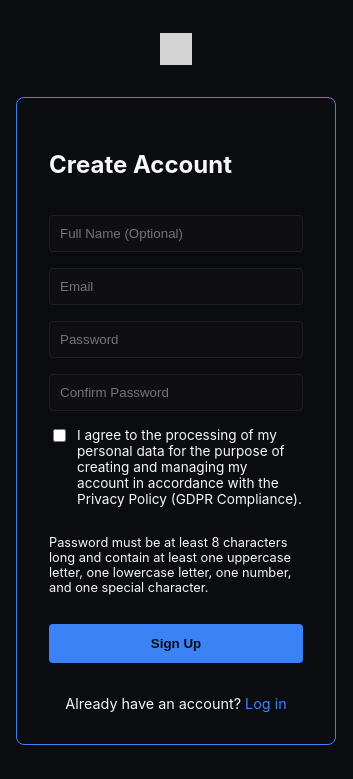
Test case: SignupPage › shows "Passwords do not match" when passwords differ
Type "user@bec-robotics.com" into the field with placeholder "Email" at (176, 286), box [49,268,303,305]
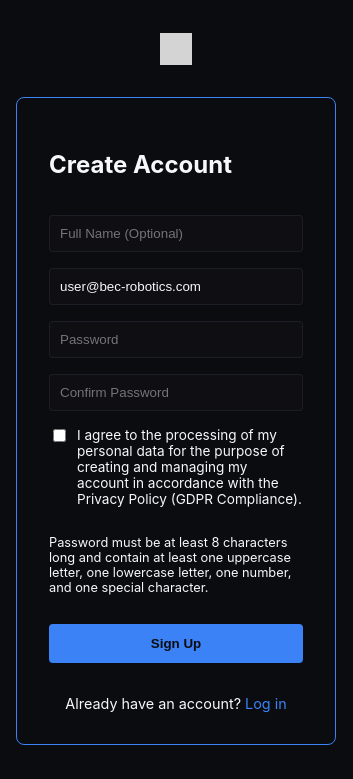
Type "ValidPass@99" into the password field with placeholder "Password" at (176, 339), box [49,321,303,358]
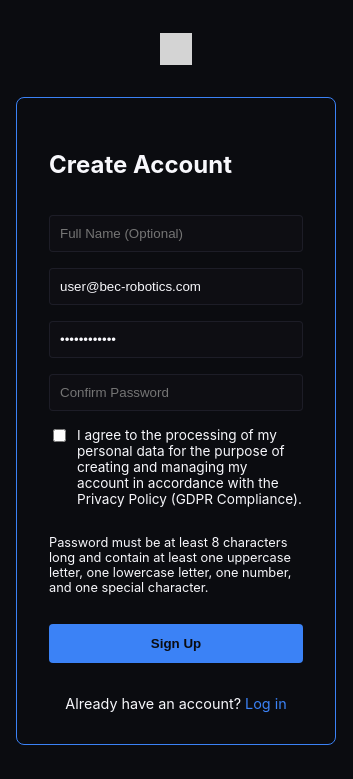
Type "Different@99" into the password field with placeholder "Confirm Password" at (176, 392), box [49,374,303,411]
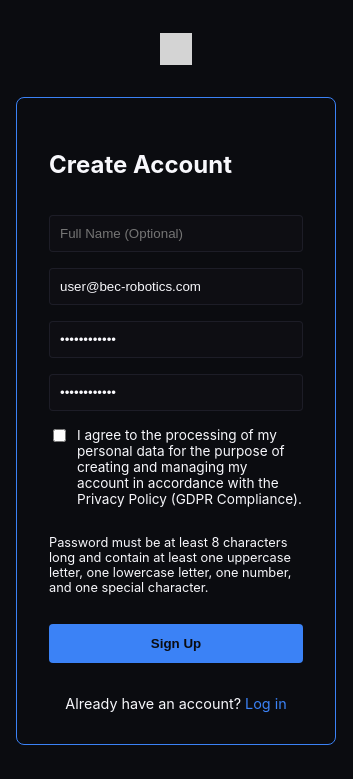
Click the checkbox at (60, 435), box [53,429,66,442]
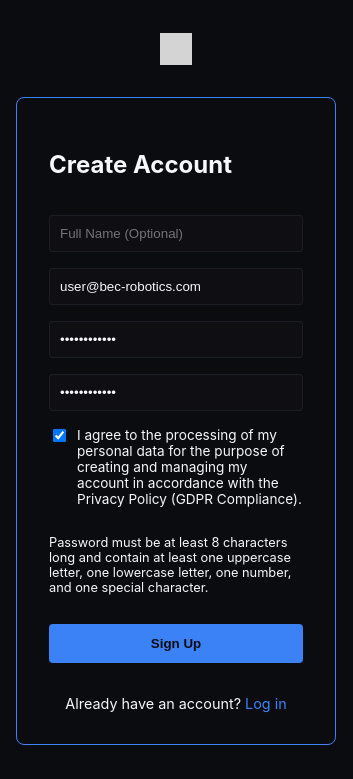
Click the button "Sign Up" at (176, 644), box [49,624,303,663]
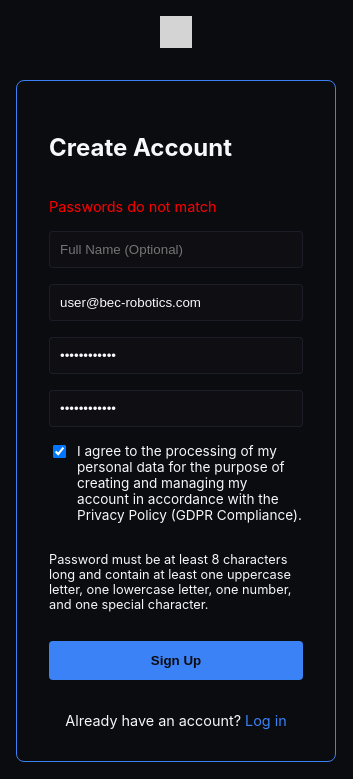
Now the text "Passwords do not match" is shown, box [49,198,217,215]
